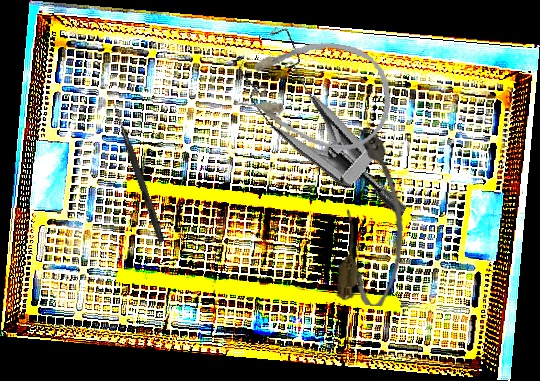Cannula: (232, 28, 399, 157), (334, 131, 415, 309)
Hook Surgical: (109, 103, 167, 243)
Speculum: (205, 12, 455, 221)
